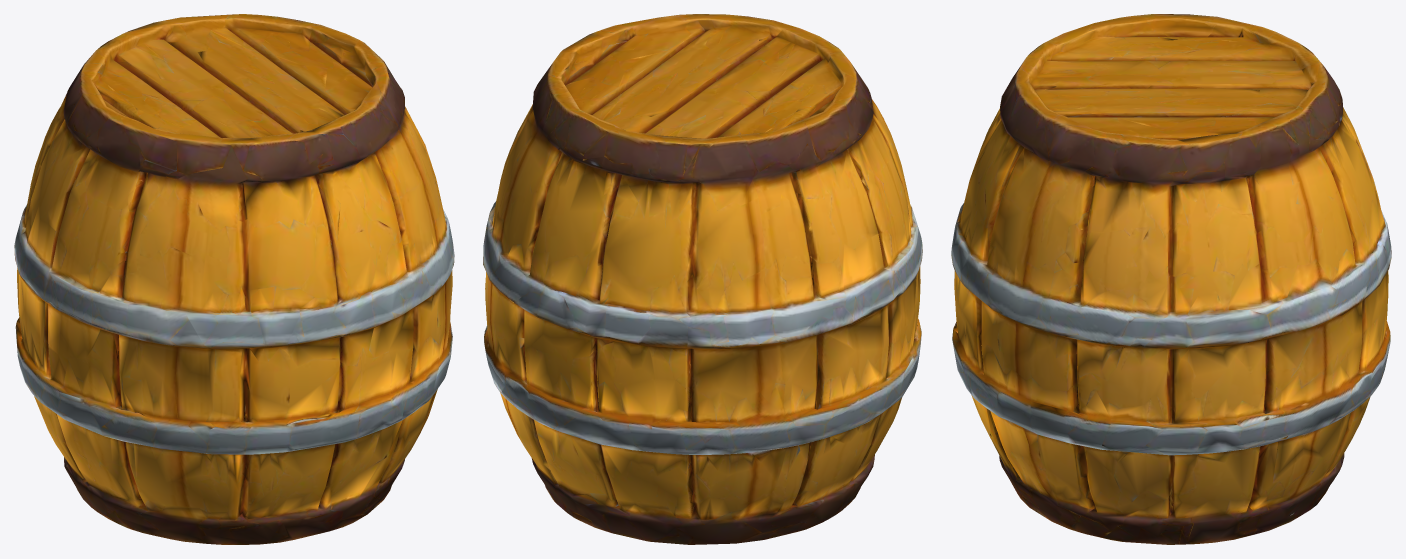
Rendered from prop-barrel.glb.
3 renders of one model, left to right at view 1: azimuth 30°, elevation 25°; view 2: azimuth 150°, elevation 25°; view 3: azimuth 270°, elevation 25°, orthographic.
Size of the model in its own units: 1.91 by 1.91 by 1.91.
Materials: 1 (1 with a texture image).
